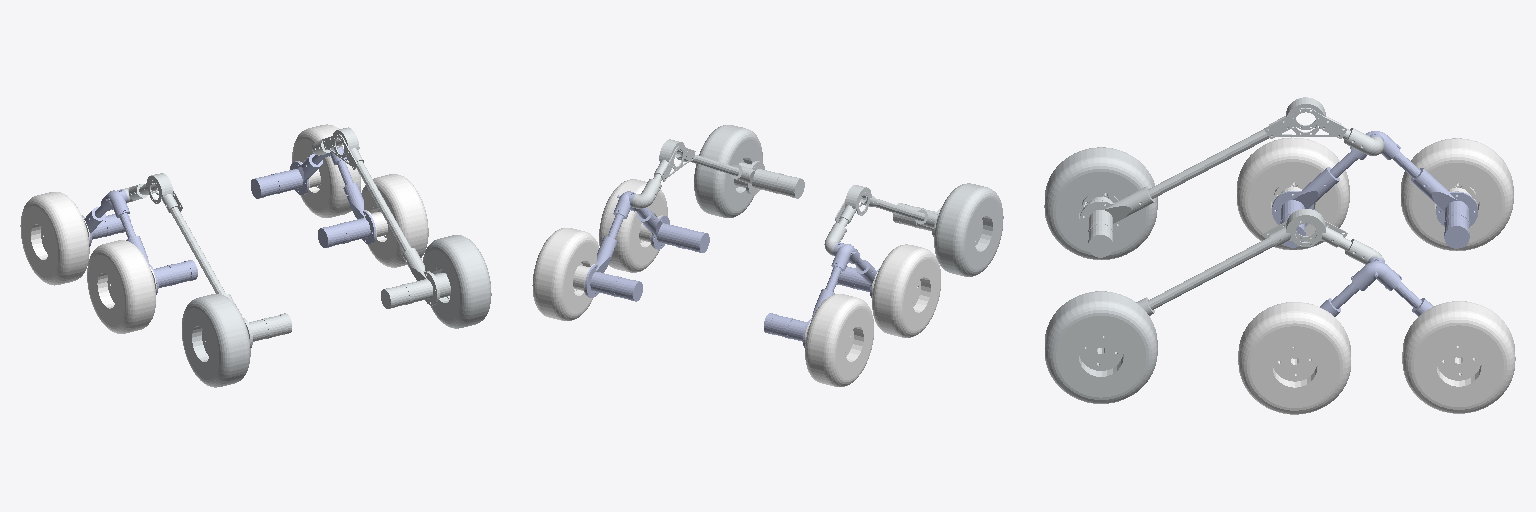
robot.urdf — 2025_ROVER_ASY:
<?xml version="1.0" encoding="utf-8"?>
<!-- This URDF was automatically created by SolidWorks to URDF Exporter! Originally created by Stephen Brawner (brawner@gmail.com) 
     Commit Version: 1.6.0-4-g7f85cfe  Build Version: 1.6.7995.38578
     For more information, please see http://wiki.ros.org/sw_urdf_exporter -->
<robot name="2025_ROVER_ASY">
  <link name="world" />

  <joint name="world_fixed" type="fixed">
      <parent link="world" />
      <child link="dummy" />
      <origin xyz="0 0 0" rpy="0 0 0" />
  </joint>
  <link name="dummy" />
  <joint name="dummy_joint" type="fixed">
      <parent link="dummy" />
      <child link="Chassis" />
  </joint>

  <link
    name="Chassis">
    <inertial>
      <origin
        xyz="0.564427546477429 -1.34173868409253 0.695744656327743"
        rpy="0 0 0" />
      <mass
        value="28.7018898926924" />
      <inertia
        ixx="0.29472969043508"
        ixy="-0.000237109186572857"
        ixz="0.000497585627623536"
        iyy="0.332633986462551"
        iyz="0.00361706298855582"
        izz="0.108945987176568" />
    </inertial>
    <visual>
      <origin
        xyz="0 0 0"
        rpy="0 0 0" />
      <geometry>
        <mesh
          filename="package://uvic_rover/meshes/drive/Chassis.STL" />
      </geometry>
      <material
        name="">
        <color
          rgba="0.752941176470588 0.752941176470588 0.752941176470588 1" />
      </material>
    </visual>
    <collision>
      <origin
        xyz="0 0 0"
        rpy="0 0 0" />
      <geometry>
        <mesh
          filename="package://uvic_rover/meshes/drive/Chassis.STL" />
      </geometry>
    </collision>
  </link>
  <link
    name="Left Rocker">
    <inertial>
      <origin
        xyz="-0.403919538320734 -0.22328405743632 -0.0599754094377352"
        rpy="0 0 0" />
      <mass
        value="3.06660121072908" />
      <inertia
        ixx="0.00502297634649429"
        ixy="-0.000326382645979822"
        ixz="-7.81046500012958E-06"
        iyy="0.00557629680945313"
        iyz="3.72449829937343E-06"
        izz="0.00218105190615842" />
    </inertial>
    <visual>
      <origin
        xyz="0 0 0"
        rpy="0 0 0" />
      <geometry>
        <mesh
          filename="package://uvic_rover/meshes/drive/Left Rocker.STL" />
      </geometry>
      <material
        name="">
        <color
          rgba="0.898039215686275 0.917647058823529 0.929411764705882 1" />
      </material>
    </visual>
    <collision>
      <origin
        xyz="0 0 0"
        rpy="0 0 0" />
      <geometry>
        <mesh
          filename="package://uvic_rover/meshes/drive/Left Rocker.STL" />
      </geometry>
    </collision>
  </link>
  <joint
    name="Left Rocker Joint"
    type="continuous">
    <origin
      xyz="0.921912579825089 -1.22343460511792 0.50953409153941"
      rpy="1.57079632679495 0 1.57354730849476" />
    <parent
      link="Chassis" />
    <child
      link="Left Rocker" />
    <axis
      xyz="0 0 1" />
  </joint>
  <link
    name="Left Front Wheel">
    <inertial>
      <origin
        xyz="0.0803810942366472 -1.1508428210405E-08 -8.40117669875795E-10"
        rpy="0 0 0" />
      <mass
        value="4.55283541763146" />
      <inertia
        ixx="0.0362263462870138"
        ixy="1.31784966582649E-10"
        ixz="9.62051114092961E-12"
        iyy="0.0209493700321966"
        iyz="2.6525830143509E-10"
        izz="0.0209493664179867" />
    </inertial>
    <visual>
      <origin
        xyz="0 0 0"
        rpy="0 0 0" />
      <geometry>
        <mesh
          filename="package://uvic_rover/meshes/drive/Left Front Wheel.STL" />
      </geometry>
      <material
        name="">
        <color
          rgba="0.898039215686275 0.917647058823529 0.929411764705882 1" />
      </material>
    </visual>
    <collision>
      <origin
        xyz="0 0 0"
        rpy="0 0 0" />
      <geometry>
        <mesh
          filename="package://uvic_rover/meshes/drive/Left Front Wheel.STL" />
      </geometry>
    </collision>
  </link>
  <joint
    name="Left_Front_Wheel_Joint"
    type="continuous">
    <origin
      xyz="-0.460241876269187 -0.251142676859366 0.00300000000003453"
      rpy="0.346894155603661 -1.57079631189374 0.962086590127429" />
    <parent
      link="Left Rocker" />
    <child
      link="Left Front Wheel" />
    <axis
      xyz="1 0 0" />
  </joint>
  <link
    name="Left Bogie">
    <inertial>
      <origin
        xyz="0.171084437414008 0.0443669758238091 1.95219201537533E-06"
        rpy="0 0 0" />
      <mass
        value="5.54056536421925" />
      <inertia
        ixx="0.00972244998543849"
        ixy="-8.13070142673459E-08"
        ixz="4.95885899684978E-12"
        iyy="0.00267244772802555"
        iyz="9.3085805446736E-07"
        izz="0.00968308814470141" />
    </inertial>
    <visual>
      <origin
        xyz="0 0 0"
        rpy="0 0 0" />
      <geometry>
        <mesh
          filename="package://uvic_rover/meshes/drive/Left Bogie.STL" />
      </geometry>
      <material
        name="">
        <color
          rgba="0.792156862745098 0.819607843137255 0.933333333333333 1" />
      </material>
    </visual>
    <collision>
      <origin
        xyz="0 0 0"
        rpy="0 0 0" />
      <geometry>
        <mesh
          filename="package://uvic_rover/meshes/drive/Left Bogie.STL" />
      </geometry>
    </collision>
  </link>
  <joint
    name="Left Bogie Joint"
    type="continuous">
    <origin
      xyz="0.158205316010234 -0.0767617874886743 0.0304999999999972"
      rpy="-1.57079632679493 0 -1.56640478252846" />
    <parent
      link="Left Rocker" />
    <child
      link="Left Bogie" />
    <axis
      xyz="0 1 0" />
  </joint>
  <link
    name="Left Bogie Wheel 1">
    <inertial>
      <origin
        xyz="9.64198340613898E-09 6.33892849322137E-09 0.0438050942366472"
        rpy="0 0 0" />
      <mass
        value="4.55283541763146" />
      <inertia
        ixx="0.0209493689491762"
        ixy="1.67681002416487E-09"
        ixz="-1.10412150608683E-10"
        iyy="0.0209493675010071"
        iyz="-7.25880686701169E-11"
        izz="0.0362263462870137" />
    </inertial>
    <visual>
      <origin
        xyz="0 0 0"
        rpy="0 0 0" />
      <geometry>
        <mesh
          filename="package://uvic_rover/meshes/drive/Left Bogie Wheel 1.STL" />
      </geometry>
      <material
        name="">
        <color
          rgba="1 1 1 1" />
      </material>
    </visual>
    <collision>
      <origin
        xyz="0 0 0"
        rpy="0 0 0" />
      <geometry>
        <mesh
          filename="package://uvic_rover/meshes/drive/Left Bogie Wheel 1.STL" />
      </geometry>
    </collision>
  </link>
  <joint
    name="Left_Bogie_Wheel_1_Joint"
    type="continuous">
    <origin
      xyz="0.175945958234471 -0.0615759999999987 0.18423022948193"
      rpy="-1.57079632679488 -0.508707774402449 3.14159265358978" />
    <parent
      link="Left Bogie" />
    <child
      link="Left Bogie Wheel 1" />
    <axis
      xyz="0 0 1" />
  </joint>
  <link
    name="Left Bogie Wheel 2">
    <inertial>
      <origin
        xyz="9.64198365593916E-09 6.33892827117677E-09 0.0438050942366475"
        rpy="0 0 0" />
      <mass
        value="4.55283541763146" />
      <inertia
        ixx="0.0209493689491762"
        ixy="1.67681002503223E-09"
        ixz="-1.10412133246202E-10"
        iyy="0.0209493675010071"
        iyz="-7.25882837690516E-11"
        izz="0.0362263462870137" />
    </inertial>
    <visual>
      <origin
        xyz="0 0 0"
        rpy="0 0 0" />
      <geometry>
        <mesh
          filename="package://uvic_rover/meshes/drive/Left Bogie Wheel 2.STL" />
      </geometry>
      <material
        name="">
        <color
          rgba="1 1 1 1" />
      </material>
    </visual>
    <collision>
      <origin
        xyz="0 0 0"
        rpy="0 0 0" />
      <geometry>
        <mesh
          filename="package://uvic_rover/meshes/drive/Left Bogie Wheel 2.STL" />
      </geometry>
    </collision>
  </link>
  <joint
    name="Left_Bogie_Wheel_2_Joint"
    type="continuous">
    <origin
      xyz="0.175945958234468 -0.0615760000000021 -0.184230229481933"
      rpy="1.57079632679486 -1.06208855239245 0" />
    <parent
      link="Left Bogie" />
    <child
      link="Left Bogie Wheel 2" />
    <axis
      xyz="0 0 1" />
  </joint>
  <link
    name="Right Rocker">
    <inertial>
      <origin
        xyz="0.404202972143678 -0.223239823890213 -0.0599754114865064"
        rpy="0 0 0" />
      <mass
        value="3.06660105538394" />
      <inertia
        ixx="0.00502298872607975"
        ixy="0.000210045462857487"
        ixz="-3.33295110360578E-06"
        iyy="0.0055762841618886"
        iyz="2.58462289034438E-06"
        izz="0.00218105182432725" />
    </inertial>
    <visual>
      <origin
        xyz="0 0 0"
        rpy="0 0 0" />
      <geometry>
        <mesh
          filename="package://uvic_rover/meshes/drive/Right Rocker.STL" />
      </geometry>
      <material
        name="">
        <color
          rgba="0.898039215686275 0.917647058823529 0.929411764705882 1" />
      </material>
    </visual>
    <collision>
      <origin
        xyz="0 0 0"
        rpy="0 0 0" />
      <geometry>
        <mesh
          filename="package://uvic_rover/meshes/drive/Right Rocker.STL" />
      </geometry>
    </collision>
  </link>
  <joint
    name="Right Rocker Joint"
    type="continuous">
    <origin
      xyz="0.333333737020984 -1.22366239722167 0.509229992213948"
      rpy="1.5707963267949 0 -1.5735473084948" />
    <parent
      link="Chassis" />
    <child
      link="Right Rocker" />
    <axis
      xyz="0 0 1" />
  </joint>
  <link
    name="Right Front Wheel">
    <inertial>
      <origin
        xyz="0.0803810942366472 -1.15084279328492E-08 -8.40118197231732E-10"
        rpy="0 0 0" />
      <mass
        value="4.55283541763146" />
      <inertia
        ixx="0.0362263462870137"
        ixy="1.31784998769901E-10"
        ixz="9.62041618514809E-12"
        iyy="0.0209493700321966"
        iyz="2.6525830186877E-10"
        izz="0.0209493664179867" />
    </inertial>
    <visual>
      <origin
        xyz="0 0 0"
        rpy="0 0 0" />
      <geometry>
        <mesh
          filename="package://uvic_rover/meshes/drive/Right Front Wheel.STL" />
      </geometry>
      <material
        name="">
        <color
          rgba="0.898039215686275 0.917647058823529 0.929411764705882 1" />
      </material>
    </visual>
    <collision>
      <origin
        xyz="0 0 0"
        rpy="0 0 0" />
      <geometry>
        <mesh
          filename="package://uvic_rover/meshes/drive/Right Front Wheel.STL" />
      </geometry>
    </collision>
  </link>
  <joint
    name="Right_Front_Wheel_Joint"
    type="continuous">
    <origin
      xyz="0.460241876269232 -0.251142676859283 0.00300000000000022"
      rpy="0.261799387799056 -1.5707963267949 0" />
    <parent
      link="Right Rocker" />
    <child
      link="Right Front Wheel" />
    <axis
      xyz="1 0 0" />
  </joint>
  <link
    name="Right Bogie">
    <inertial>
      <origin
        xyz="0.171084437358874 0.0443669758162707 1.9534833577417E-06"
        rpy="0 0 0" />
      <mass
        value="5.5405653649061" />
      <inertia
        ixx="0.00972244998383798"
        ixy="-8.13030967750798E-08"
        ixz="-2.01586111322203E-11"
        iyy="0.00267244772242669"
        iyz="9.30840400495804E-07"
        izz="0.00968308813416261" />
    </inertial>
    <visual>
      <origin
        xyz="0 0 0"
        rpy="0 0 0" />
      <geometry>
        <mesh
          filename="package://uvic_rover/meshes/drive/Right Bogie.STL" />
      </geometry>
      <material
        name="">
        <color
          rgba="0.792156862745098 0.819607843137255 0.933333333333333 1" />
      </material>
    </visual>
    <collision>
      <origin
        xyz="0 0 0"
        rpy="0 0 0" />
      <geometry>
        <mesh
          filename="package://uvic_rover/meshes/drive/Right Bogie.STL" />
      </geometry>
    </collision>
  </link>
  <joint
    name="Right Bogie Joint"
    type="continuous">
    <origin
      xyz="-0.156139037771596 -0.0755688211914241 0.0304999999999996"
      rpy="-1.57079632679489 0 -1.56662951346645" />
    <parent
      link="Right Rocker" />
    <child
      link="Right Bogie" />
    <axis
      xyz="0 1 0" />
  </joint>
  <link
    name="Right Bogie Wheel 1">
    <inertial>
      <origin
        xyz="9.64198398900606E-09 6.33892860424368E-09 0.0438050942366472"
        rpy="0 0 0" />
      <mass
        value="4.55283541763146" />
      <inertia
        ixx="0.0209493689491762"
        ixy="1.67681003197112E-09"
        ixz="-1.10412006838393E-10"
        iyy="0.0209493675010071"
        iyz="-7.25881463210153E-11"
        izz="0.0362263462870137" />
    </inertial>
    <visual>
      <origin
        xyz="0 0 0"
        rpy="0 0 0" />
      <geometry>
        <mesh
          filename="package://uvic_rover/meshes/drive/Right Bogie Wheel 1.STL" />
      </geometry>
      <material
        name="">
        <color
          rgba="1 1 1 1" />
      </material>
    </visual>
    <collision>
      <origin
        xyz="0 0 0"
        rpy="0 0 0" />
      <geometry>
        <mesh
          filename="package://uvic_rover/meshes/drive/Right Bogie Wheel 1.STL" />
      </geometry>
    </collision>
  </link>
  <joint
    name="Right_Bogie_Wheel_1_Joint"
    type="continuous">
    <origin
      xyz="0.175945958234469 -0.0615760000000018 -0.184230229481932"
      rpy="1.57079632679488 -1.06208855239245 0" />
    <parent
      link="Right Bogie" />
    <child
      link="Right Bogie Wheel 1" />
    <axis
      xyz="0 0 1" />
  </joint>
  <link
    name="Right Bogie Wheel 2">
    <inertial>
      <origin
        xyz="9.64198398900606E-09 6.33892816015447E-09 0.0438050942366472"
        rpy="0 0 0" />
      <mass
        value="4.55283541763146" />
      <inertia
        ixx="0.0209493689491762"
        ixy="1.67681002416487E-09"
        ixz="-1.10412010826224E-10"
        iyy="0.0209493675010071"
        iyz="-7.25881548099795E-11"
        izz="0.0362263462870137" />
    </inertial>
    <visual>
      <origin
        xyz="0 0 0"
        rpy="0 0 0" />
      <geometry>
        <mesh
          filename="package://uvic_rover/meshes/drive/Right Bogie Wheel 2.STL" />
      </geometry>
      <material
        name="">
        <color
          rgba="1 1 1 1" />
      </material>
    </visual>
    <collision>
      <origin
        xyz="0 0 0"
        rpy="0 0 0" />
      <geometry>
        <mesh
          filename="package://uvic_rover/meshes/drive/Right Bogie Wheel 2.STL" />
      </geometry>
    </collision>
  </link>
  <joint
    name="Right_Bogie_Wheel_2_Joint"
    type="continuous">
    <origin
      xyz="0.17594595823447 -0.0615759999999979 0.184230229481932"
      rpy="-1.57079632679488 -0.508707774402448 3.14159265358979" />
    <parent
      link="Right Bogie" />
    <child
      link="Right Bogie Wheel 2" />
    <axis
      xyz="0 0 1" />
  </joint>

  <!-- Transmission tags -->
  <transmission name="trans_left_front_wheel">
    <type>transmission_interface/SimpleTransmission</type>
    <joint name="Left_Front_Wheel_Joint">
      <hardwareInterface>hardware_interface/EffortJointInterface</hardwareInterface>
    </joint>
    <actuator name="left_front_wheel_motor">
      <hardwareInterface>hardware_interface/EffortJointInterface</hardwareInterface>
      <mechanicalReduction>1</mechanicalReduction>
    </actuator>
  </transmission>
  <transmission name="trans_left_bogie_wheel1">
    <type>transmission_interface/SimpleTransmission</type>
    <joint name="Left_Bogie_Wheel_1_Joint">
      <hardwareInterface>hardware_interface/EffortJointInterface</hardwareInterface>
    </joint>
    <actuator name="left_bogie_wheel1_motor">
      <hardwareInterface>hardware_interface/EffortJointInterface</hardwareInterface>
      <mechanicalReduction>1</mechanicalReduction>
    </actuator>
  </transmission>
  <transmission name="trans_left_bogie_wheel2">
    <type>transmission_interface/SimpleTransmission</type>
    <joint name="Left_Bogie_Wheel_2_Joint">
      <hardwareInterface>hardware_interface/EffortJointInterface</hardwareInterface>
    </joint>
    <actuator name="left_bogie_wheel2_motor">
      <hardwareInterface>hardware_interface/EffortJointInterface</hardwareInterface>
      <mechanicalReduction>1</mechanicalReduction>
    </actuator>
  </transmission>
  <transmission name="trans_right_front_wheel">
    <type>transmission_interface/SimpleTransmission</type>
    <joint name="Right_Front_Wheel_Joint">
      <hardwareInterface>hardware_interface/EffortJointInterface</hardwareInterface>
    </joint>
    <actuator name="right_front_wheel_motor">
      <hardwareInterface>hardware_interface/EffortJointInterface</hardwareInterface>
      <mechanicalReduction>1</mechanicalReduction>
    </actuator>
  </transmission>
  <transmission name="trans_right_bogie_wheel1">
    <type>transmission_interface/SimpleTransmission</type>
    <joint name="Right_Bogie_Wheel_1_Joint">
      <hardwareInterface>hardware_interface/EffortJointInterface</hardwareInterface>
    </joint>
    <actuator name="right_bogie_wheel1_motor">
      <hardwareInterface>hardware_interface/EffortJointInterface</hardwareInterface>
      <mechanicalReduction>1</mechanicalReduction>
    </actuator>
  </transmission>
  <transmission name="trans_right_bogie_wheel2">
    <type>transmission_interface/SimpleTransmission</type>
    <joint name="Right_Bogie_Wheel_2_Joint">
      <hardwareInterface>hardware_interface/EffortJointInterface</hardwareInterface>
    </joint>
    <actuator name="right_bogie_wheel2_motor">
      <hardwareInterface>hardware_interface/EffortJointInterface</hardwareInterface>
      <mechanicalReduction>1</mechanicalReduction>
    </actuator>
  </transmission>


  <!-- Gazebo Plugin -->
  <gazebo>
    <plugin name="gazebo_ros_control" filename="libgazebo_ros_control.so">
      <robotNamespace>/drive_train</robotNamespace>
    </plugin>
  </gazebo>
  
</robot>

--- Facts derived from the render (not from the file) ---
The picture shows the robot from 3 angles, left to right: view 1: azimuth 30°, elevation 25°; view 2: azimuth 150°, elevation 25°; view 3: azimuth 270°, elevation 25°; orthographic projection.
Model 2025_ROVER_ASY with 13 links and 12 joints (10 continuous, 2 fixed), rooted at world, posed all joints at 0.
Visible links, largest first — view 1: Right Bogie Wheel 2, Right Front Wheel, Right Bogie Wheel 1, Left Front Wheel, Left Bogie Wheel 2, Left Bogie, Left Rocker, Left Bogie Wheel 1, Right Rocker, Right Bogie; view 2: Right Front Wheel, Right Bogie Wheel 1, Right Bogie Wheel 2, Left Bogie Wheel 1, Left Front Wheel, Left Bogie, Left Rocker, Left Bogie Wheel 2, Right Bogie, Right Rocker; view 3: Left Front Wheel, Left Bogie Wheel 1, Left Bogie Wheel 2, Right Front Wheel, Right Bogie Wheel 1, Right Bogie Wheel 2, Right Rocker, Right Bogie, Left Rocker, Left Bogie.
Boxes of the visible links, bbox=[...] form: Right Bogie Wheel 2: bbox=[87, 240, 156, 333]; Right Front Wheel: bbox=[182, 294, 250, 387]; Right Bogie Wheel 1: bbox=[20, 192, 89, 285]; Left Front Wheel: bbox=[423, 235, 491, 328]; Left Bogie Wheel 2: bbox=[361, 174, 428, 267]; Left Bogie: bbox=[251, 146, 375, 247]; Left Rocker: bbox=[312, 127, 438, 308]; Left Bogie Wheel 1: bbox=[292, 124, 360, 217]; Right Rocker: bbox=[124, 173, 291, 347]; Right Bogie: bbox=[82, 189, 197, 294]; Right Front Wheel: bbox=[934, 183, 1003, 276]; Right Bogie Wheel 1: bbox=[805, 294, 873, 386]; Right Bogie Wheel 2: bbox=[872, 244, 940, 337]; Left Bogie Wheel 1: bbox=[532, 228, 598, 320]; Left Front Wheel: bbox=[694, 125, 762, 217]; Left Bogie: bbox=[585, 191, 709, 301]; Left Rocker: bbox=[633, 139, 804, 208]; Left Bogie Wheel 2: bbox=[599, 179, 667, 272]; Right Bogie: bbox=[764, 242, 879, 347]; Right Rocker: bbox=[824, 185, 941, 255]; Left Front Wheel: bbox=[1045, 291, 1157, 403]; Left Bogie Wheel 1: bbox=[1402, 301, 1515, 413]; Left Bogie Wheel 2: bbox=[1238, 302, 1350, 414]; Right Front Wheel: bbox=[1044, 147, 1157, 259]; Right Bogie Wheel 1: bbox=[1401, 138, 1513, 250]; Right Bogie Wheel 2: bbox=[1237, 137, 1349, 249]; Right Rocker: bbox=[1080, 97, 1383, 257]; Right Bogie: bbox=[1272, 131, 1477, 248]; Left Rocker: bbox=[1136, 209, 1384, 315]; Left Bogie: bbox=[1320, 257, 1433, 316].
Bounding box of the posed robot: 0.9639 × 1.06 × 0.4255 m (x, y, z).
Meshes: 11 distinct files referenced, 10 mesh visuals loaded (10 binary STL); not drawn: 1 (reference not matched to a file when rendering).
